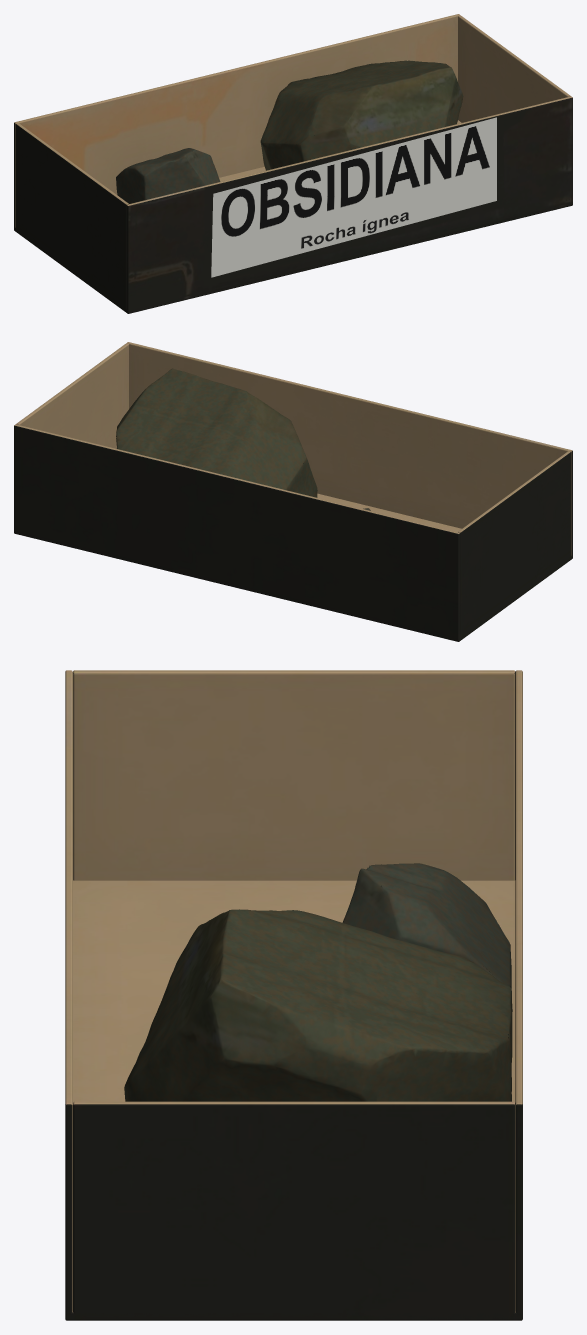
The model's file is rocha_02_09_obsidiana.glb.
The picture shows the model from 3 angles, top to bottom: view 1: azimuth 30°, elevation 25°; view 2: azimuth 150°, elevation 25°; view 3: azimuth 270°, elevation 25°; orthographic projection. The views are drawn at different scales.
Parts seen in each view (by area): view 1: Bandeja_Fundo_mo09, Bandeja_Frente_mo09, Etiqueta_mo09, Fragmento_01_mo09, Bandeja_Esquerda_mo09, Bandeja_Direita_mo09, Fragmento_02_mo09, Bandeja_Base_mo09; view 2: Bandeja_Fundo_mo09, Bandeja_Frente_mo09, Fragmento_01_mo09, Bandeja_Esquerda_mo09, Bandeja_Direita_mo09, Bandeja_Base_mo09; view 3: Bandeja_Direita_mo09, Bandeja_Esquerda_mo09, Fragmento_01_mo09, Bandeja_Base_mo09, Fragmento_02_mo09, Bandeja_Frente_mo09, Bandeja_Fundo_mo09.
Boxes of the visible parts, x1,y1,x2,y2 form: Bandeja_Fundo_mo09: [14, 14, 459, 230]; Bandeja_Frente_mo09: [126, 96, 572, 313]; Etiqueta_mo09: [211, 117, 496, 277]; Fragmento_01_mo09: [260, 60, 463, 170]; Bandeja_Esquerda_mo09: [16, 123, 128, 311]; Bandeja_Direita_mo09: [458, 15, 570, 122]; Fragmento_02_mo09: [116, 148, 220, 203]; Bandeja_Base_mo09: [15, 120, 572, 313]; Bandeja_Fundo_mo09: [14, 424, 460, 641]; Bandeja_Frente_mo09: [127, 342, 572, 558]; Fragmento_01_mo09: [116, 368, 317, 497]; Bandeja_Esquerda_mo09: [458, 451, 570, 639]; Bandeja_Direita_mo09: [16, 343, 128, 448]; Bandeja_Base_mo09: [14, 493, 572, 641]; Bandeja_Direita_mo09: [73, 1101, 515, 1320]; Bandeja_Esquerda_mo09: [73, 670, 515, 880]; Fragmento_01_mo09: [124, 909, 512, 1101]; Bandeja_Base_mo09: [65, 880, 522, 1320]; Fragmento_02_mo09: [342, 863, 511, 988]; Bandeja_Frente_mo09: [65, 670, 72, 1320]; Bandeja_Fundo_mo09: [515, 670, 522, 1320].
Size of the model in its own units: 0.2025 by 0.0567 by 0.0904.
3 materials, 3 textured.
